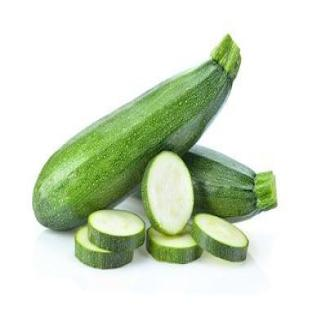Zucchini: (33, 35, 240, 230), (183, 146, 276, 220), (142, 152, 193, 235), (192, 214, 248, 261), (76, 226, 133, 268), (88, 210, 145, 251), (147, 226, 202, 263)
